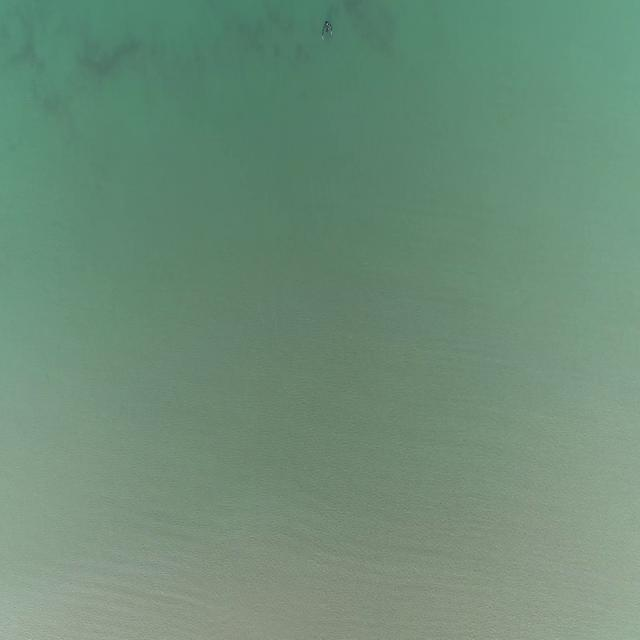person: (321, 19, 334, 40)
